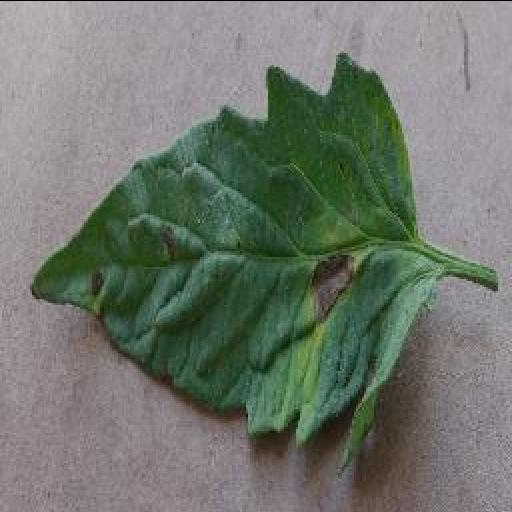Early Blight: (24, 50, 438, 452)
